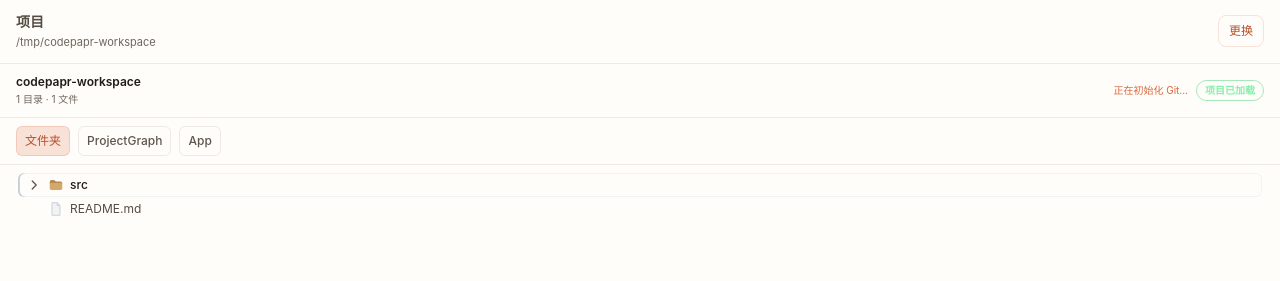
CodingWorkbench › lazily loads a directory subtree when the user expands an unloaded directory
This screenshot has width=1280, height=281.
Expected: the text "App.tsx" is not shown
Click the list item "src" at (34, 184), box [18, 172, 1262, 196]
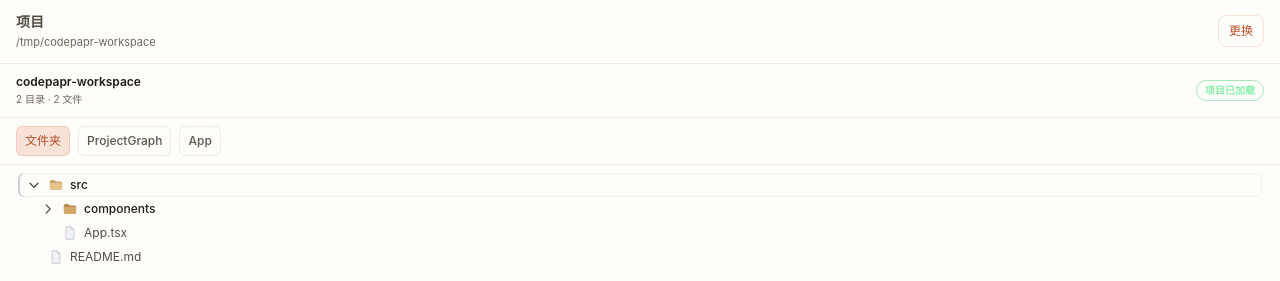
Expected: the text "App.tsx" is shown, [84, 226, 127, 238]
